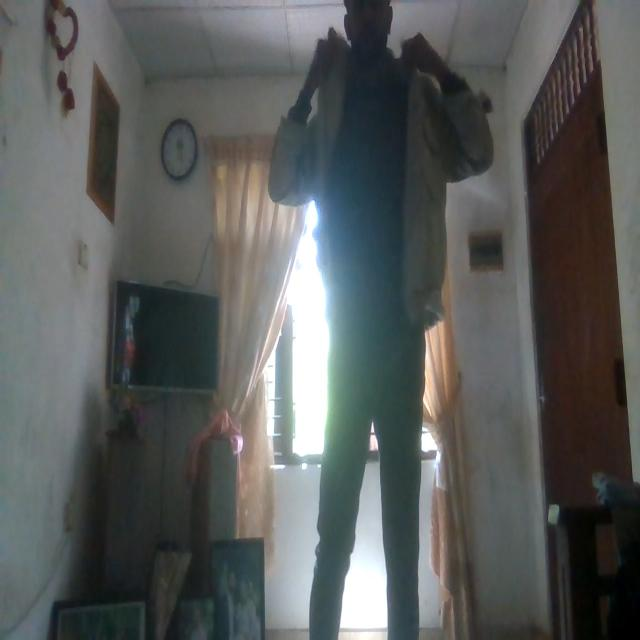Jacket_Wearer: (254, 47, 498, 312)
Person: (282, 2, 480, 640)
